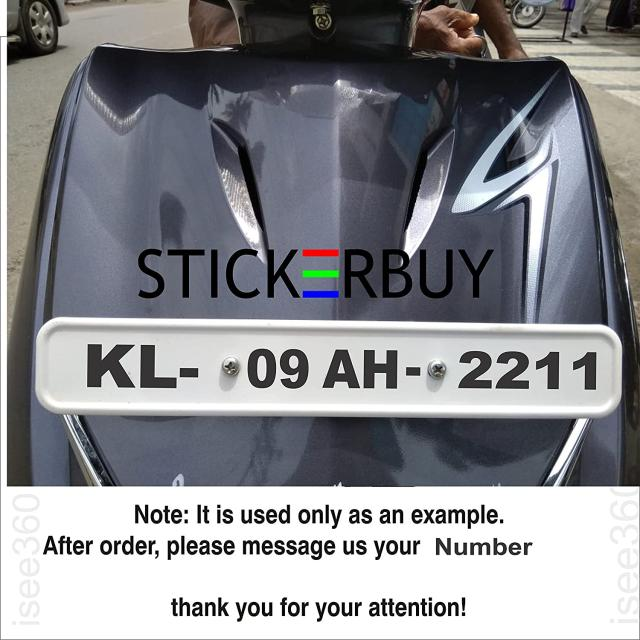license_plate: (33, 316, 624, 420)
